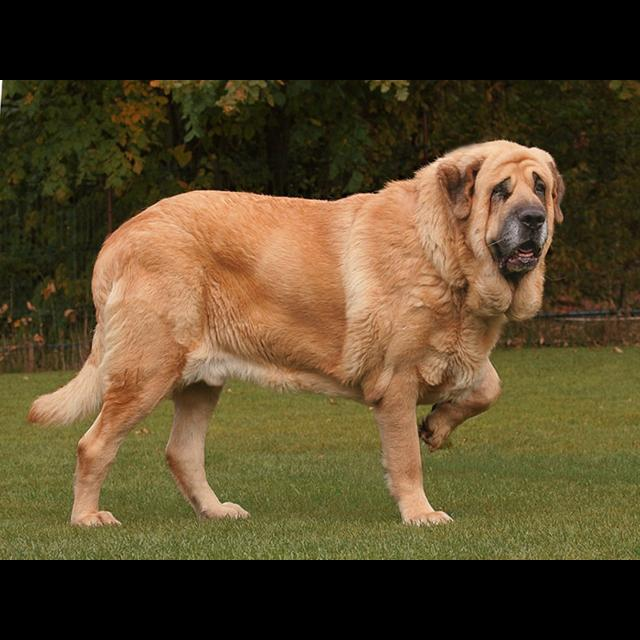mastiff: (28, 140, 567, 531)
